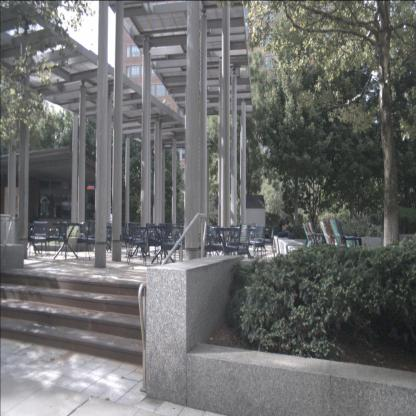human-pedestrian-adult: (277, 214, 291, 250)
